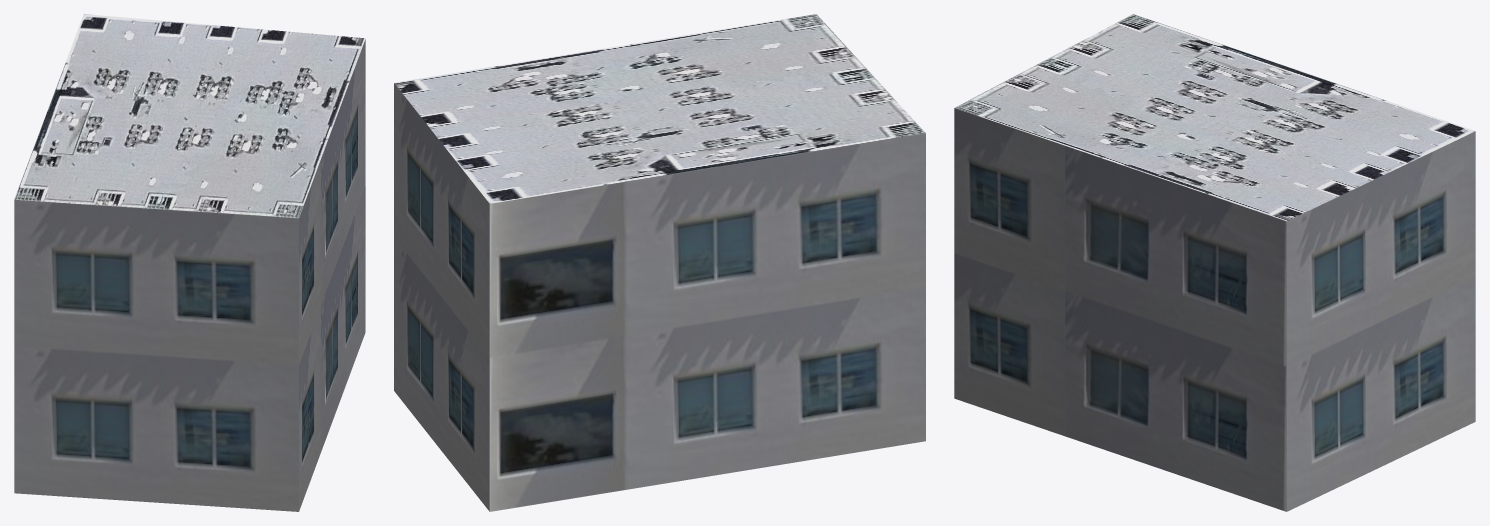
Rendered from ResTex__541.fbx.
3 renders of one model, left to right at view 1: azimuth 30°, elevation 25°; view 2: azimuth 150°, elevation 25°; view 3: azimuth 270°, elevation 25°, orthographic. The views are drawn at different scales.
Parts seen in each view (by area): view 1: CityEngineMaterial_10_m, CityEngineMaterial_8_m; view 2: CityEngineMaterial_10_m, CityEngineMaterial_8_m; view 3: CityEngineMaterial_10_m, CityEngineMaterial_8_m.
Part boxes in pixels (<box>): CityEngineMaterial_10_m: <box>14,39,365,511</box>; CityEngineMaterial_8_m: <box>14,14,365,218</box>; CityEngineMaterial_10_m: <box>394,83,925,511</box>; CityEngineMaterial_8_m: <box>394,14,925,203</box>; CityEngineMaterial_10_m: <box>954,108,1475,511</box>; CityEngineMaterial_8_m: <box>955,14,1474,221</box>.
Bounding box in the file's own units: 9.18 × 6 × 9.75.
Materials: 2 (2 with a texture image).
